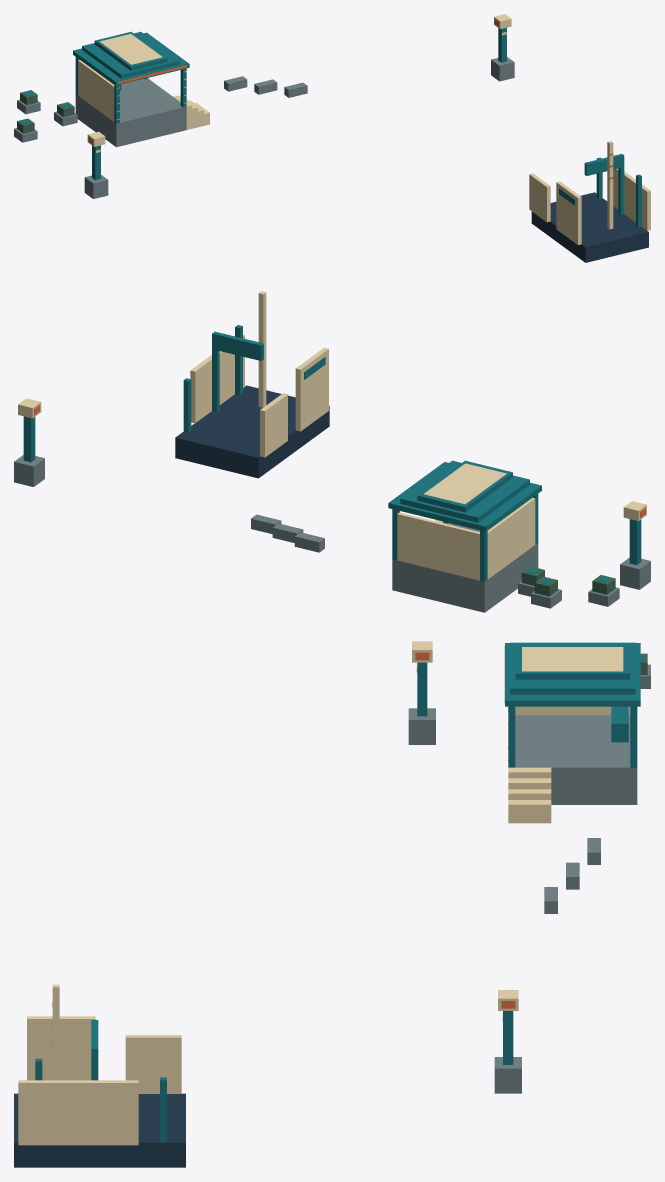
Rendered from scenery-lod-2.glb.
The picture shows the model from 3 angles, top to bottom: view 1: azimuth 30°, elevation 25°; view 2: azimuth 150°, elevation 25°; view 3: azimuth 270°, elevation 25°; orthographic projection. The views are drawn at different scales.
Visible parts, largest first — view 1: cove_workshop, cove_wreck, cove_shore, cove_east_beacon, cove_west_beacon; view 2: cove_workshop, cove_wreck, cove_shore, cove_east_beacon, cove_west_beacon; view 3: cove_workshop, cove_wreck, cove_east_beacon, cove_west_beacon, cove_shore.
Part boxes in pixels (x1,y1,x2,y2): cove_workshop: [73, 31, 209, 147]; cove_wreck: [529, 141, 650, 262]; cove_shore: [14, 76, 307, 142]; cove_east_beacon: [84, 131, 108, 198]; cove_west_beacon: [491, 14, 514, 81]; cove_workshop: [388, 460, 541, 612]; cove_wreck: [175, 291, 329, 478]; cove_shore: [251, 514, 619, 608]; cove_east_beacon: [620, 501, 650, 589]; cove_west_beacon: [14, 398, 44, 486]; cove_workshop: [504, 642, 640, 823]; cove_wreck: [14, 984, 185, 1167]; cove_east_beacon: [408, 641, 435, 744]; cove_west_beacon: [494, 990, 521, 1093]; cove_shore: [544, 653, 650, 913].
Bounding box in the file's own units: 40.28 × 12.49 × 29.64.
